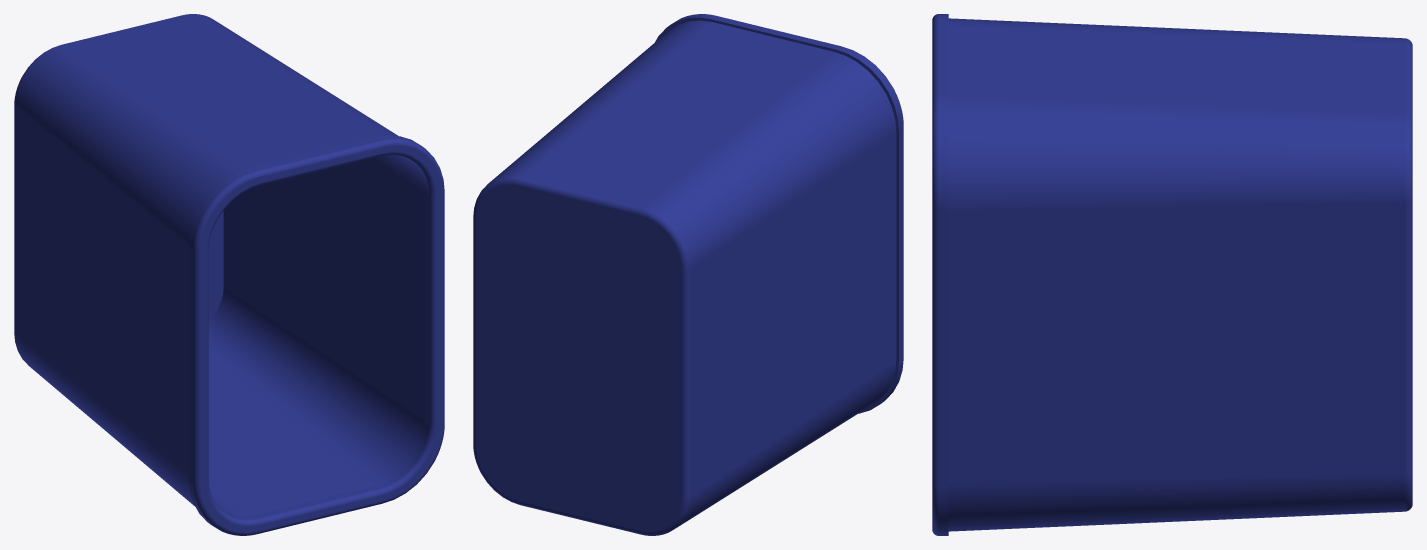
The model's file is Recycling v3.fbx.
3 renders of one model, left to right at view 1: azimuth 30°, elevation 25°; view 2: azimuth 150°, elevation 25°; view 3: azimuth 270°, elevation 25°, orthographic. The views are drawn at different scales.
Visible parts, largest first — view 1: Body1 (×2); view 2: Body1 (×2); view 3: Body1 (×2).
Boxes of the visible parts, bbox=[...] form: Body1 (×2): bbox=[14, 14, 444, 535]; Body1 (×2): bbox=[473, 14, 903, 535]; Body1 (×2): bbox=[932, 14, 1412, 535].
Bounding box in the file's own units: 10.42 × 14.42 × 14.5.
